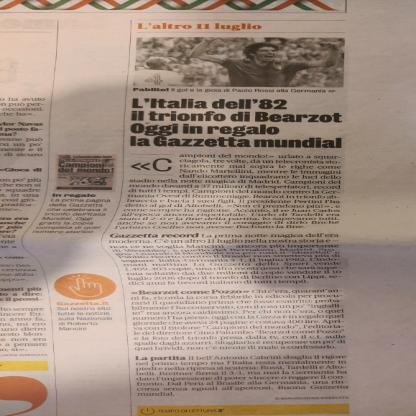immagine: (131, 35, 348, 88)
testo_col: (103, 152, 350, 399)
titolo: (124, 94, 352, 151)
